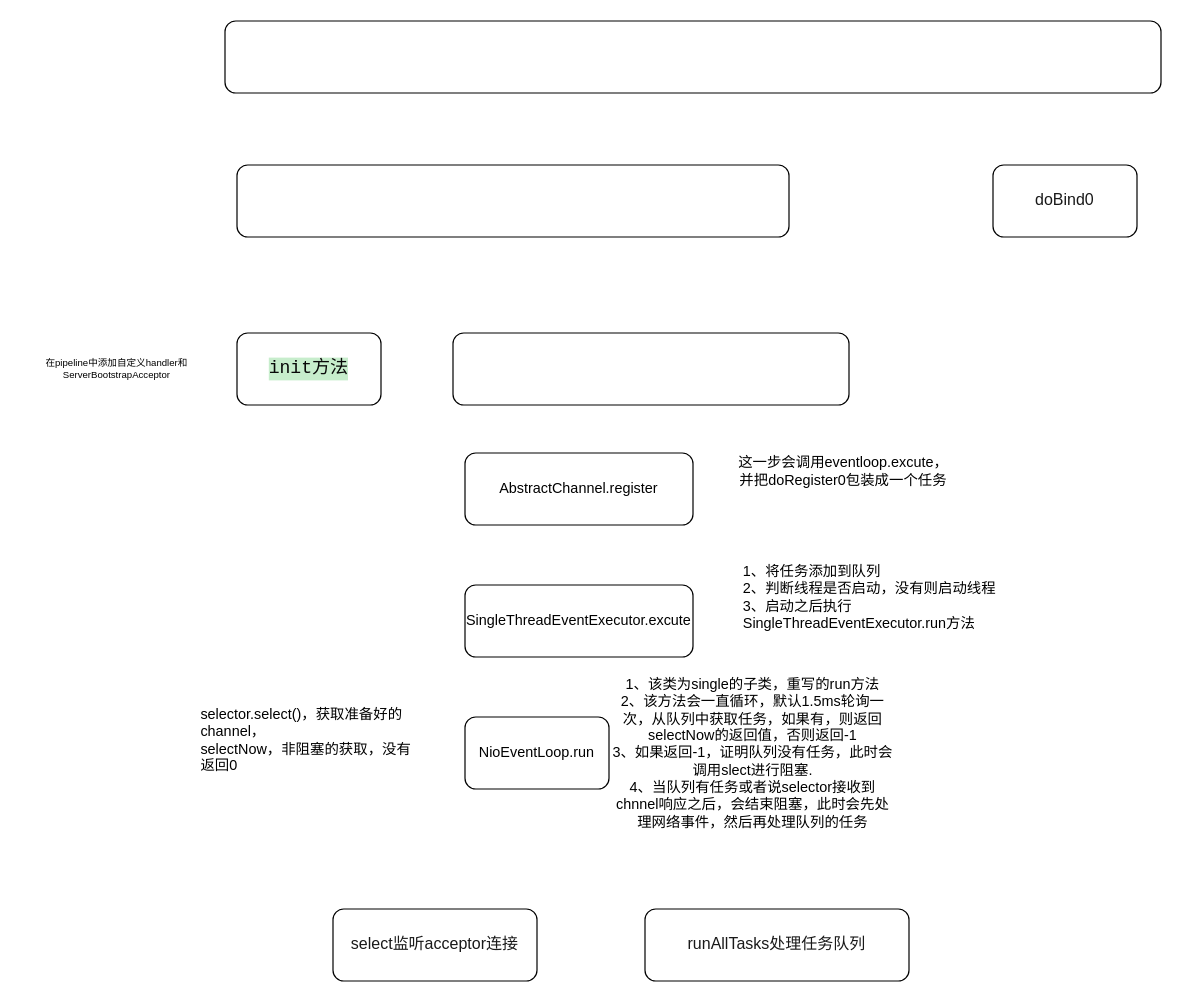
The diagram is 1182 pixels wide and 1002 high, and some of its shapes have lost their labels. Here are the shapes that lost their labels. From the top down, the centre of each, then its label:
At (692,56): "serverBootstrap.bind( 9090 ).sync();".
At (512,200): "ServerBootstrap.initAndRegister".
At (650,368): "config().group().register(channel)".
